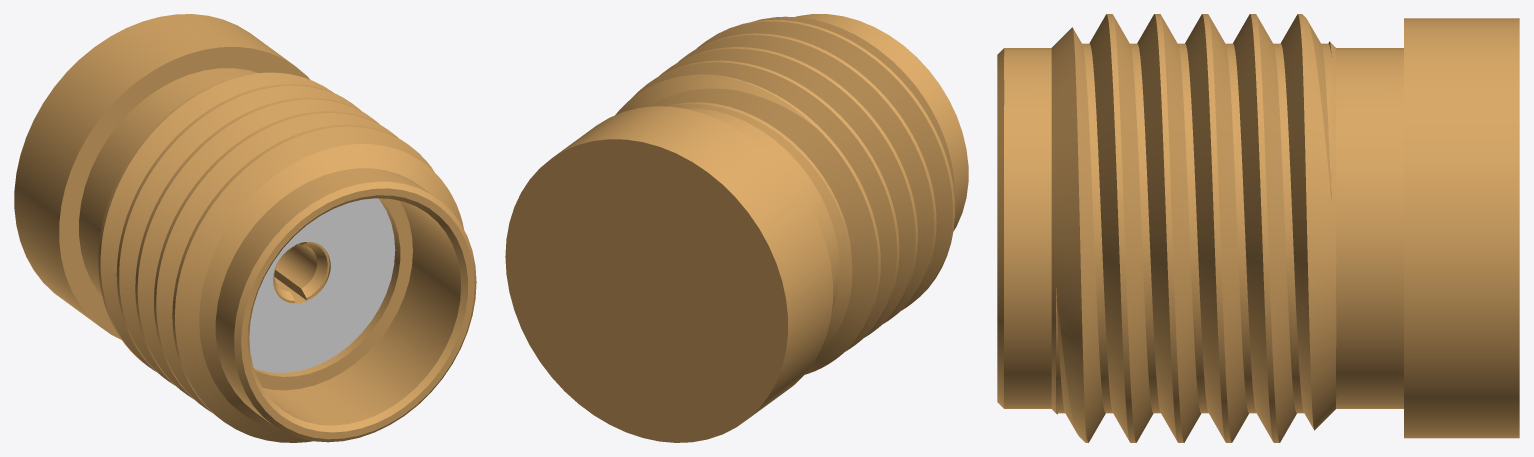
File: sma_female.glb
3 views of the same model, side by side, from view 1: azimuth 30°, elevation 25°; view 2: azimuth 150°, elevation 25°; view 3: azimuth 270°, elevation 25° (orthographic). The views are drawn at different scales.
Parts seen in each view (by area): view 1: sma_female; view 2: sma_female; view 3: sma_female.
Boxes of the visible parts, x1,y1,x2,y2 form: sma_female: [14, 14, 476, 442]; sma_female: [505, 14, 968, 442]; sma_female: [997, 14, 1519, 442].
Size of the model in its own units: 0.6331 by 0.633 by 0.7707.
